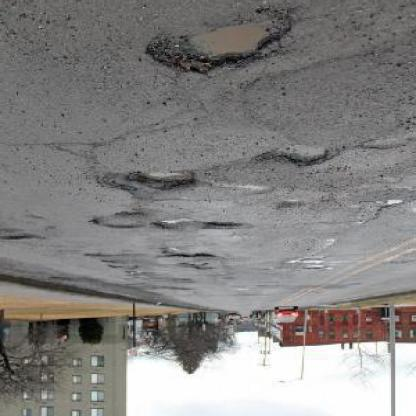pothole: (145, 20, 298, 78), (255, 145, 334, 170), (127, 170, 201, 195), (153, 219, 198, 233), (167, 253, 220, 263), (202, 223, 248, 234)
